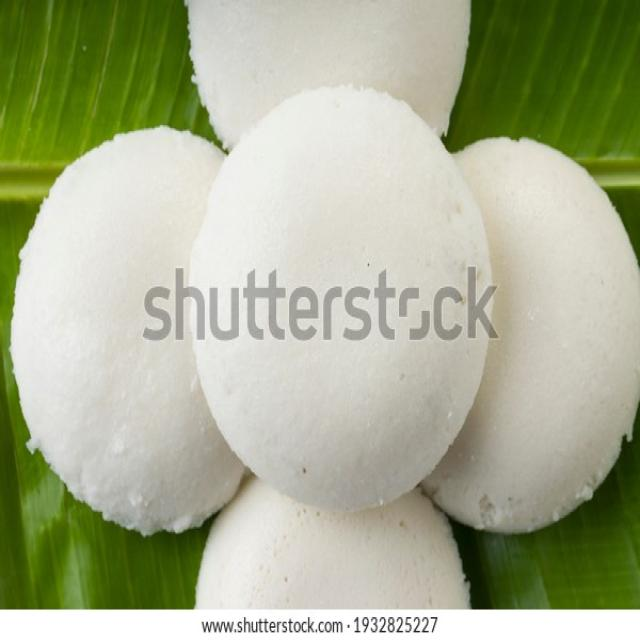IDLI: (175, 88, 497, 509), (11, 126, 244, 533), (421, 139, 639, 532), (185, 0, 469, 148), (196, 478, 469, 608)
